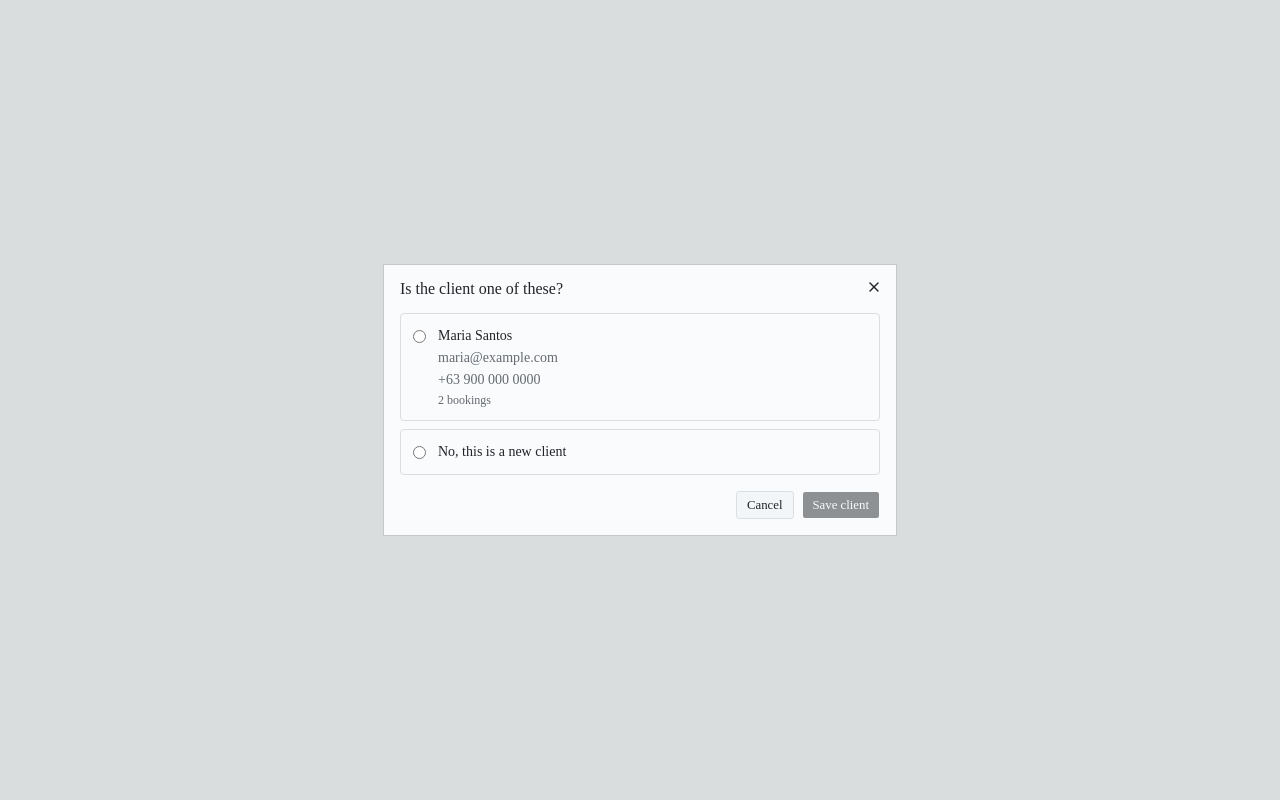
Scenario: ClientMatchDialog › shows the reconciliation step with the existing value pre-selected when a field conflicts
Click the radio button labelled "Maria Santos maria@example.com +63 900 000 0000 2 bookings".
click(420, 336)  # box top-left (413, 330), bottom-right (426, 343)
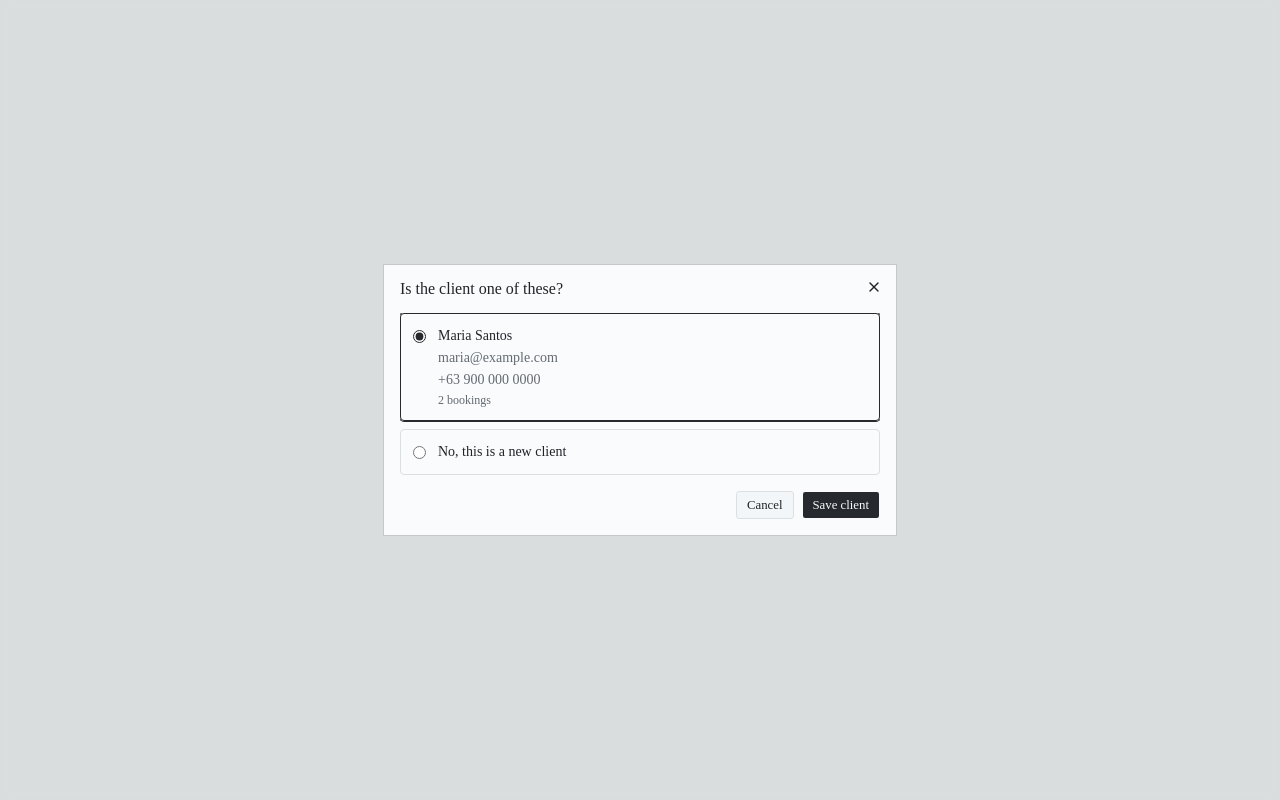
Click the button "Save client".
click(841, 505)  # box top-left (802, 491), bottom-right (880, 519)
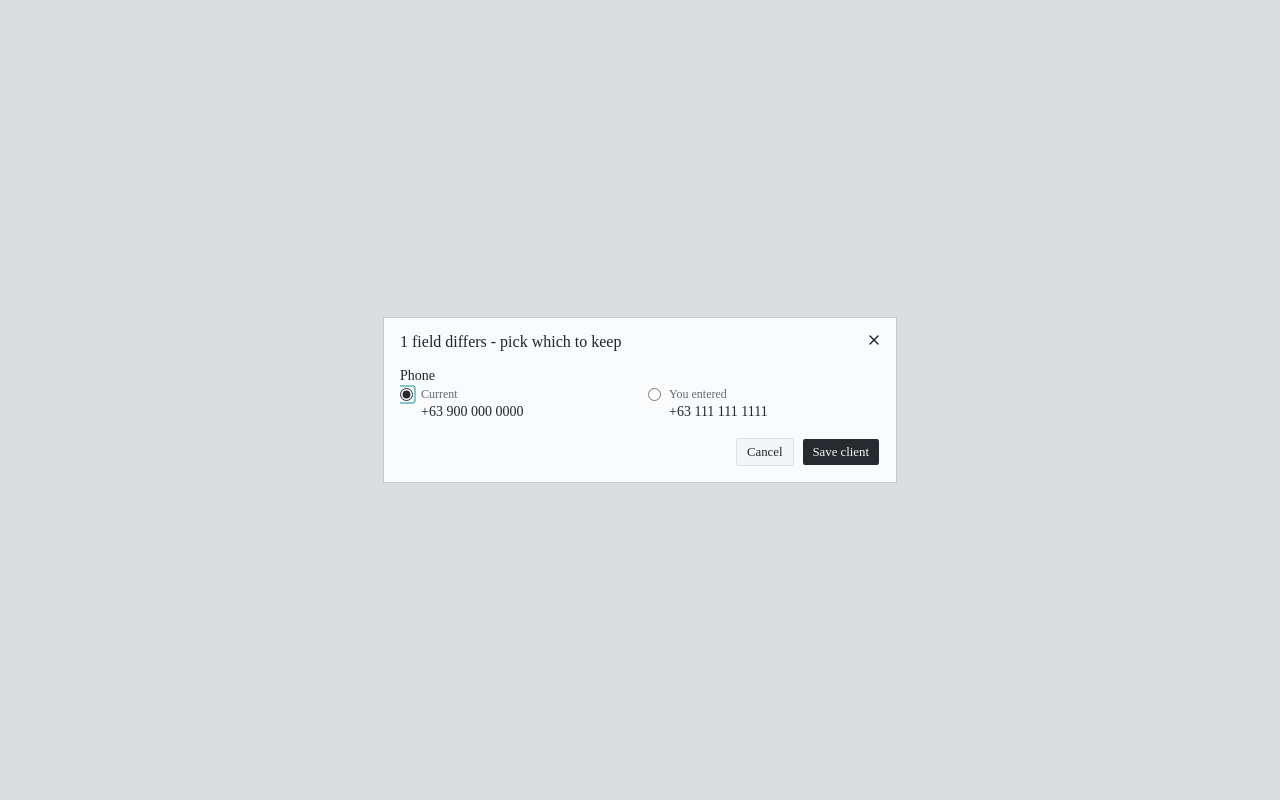
Check: the heading "1 field differs - pick which to keep" is shown, box top-left (400, 333), bottom-right (621, 350)
Check: the radio button labelled "+63 900 000 0000" is checked, box top-left (400, 388), bottom-right (413, 401)
